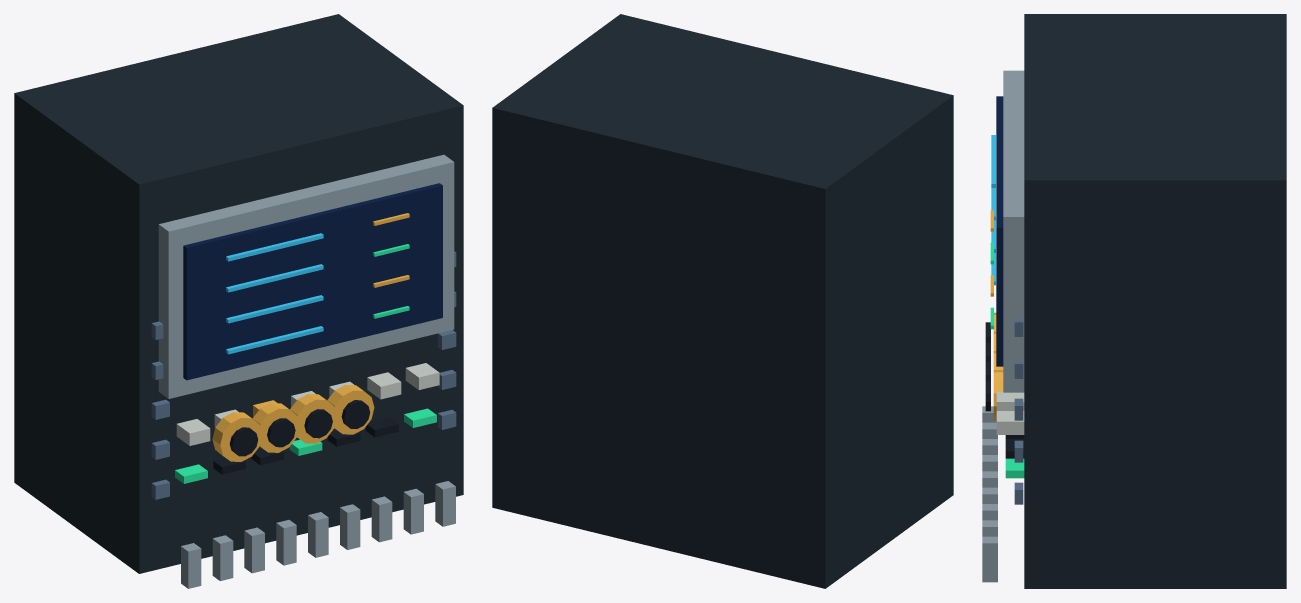
Rendered from 50_L84_PrecisionPointingErrorAnalyzer.fbx.
3 views of the same model, side by side, from view 1: azimuth 30°, elevation 25°; view 2: azimuth 150°, elevation 25°; view 3: azimuth 270°, elevation 25° (orthographic). The views are drawn at different scales.
Parts seen in each view (by area): view 1: L84_PrecisionPointingErrorAnalyzer, L84_PrecisionPointingErrorAnalyzer_Part_0010, L84_PrecisionPointingErrorAnalyzer_Part_0014, L84_PrecisionPointingErrorAnalyzer_Part_0016, L84_PrecisionPointingErrorAnalyzer_Part_0012, L84_PrecisionPointingErrorAnalyzer_Part_0011, L84_PrecisionPointingErrorAnalyzer_Part_0013, L84_PrecisionPointingErrorAnalyzer_Part_0015, L84_PrecisionPointingErrorAnalyzer_Part_0017; view 2: L84_PrecisionPointingErrorAnalyzer; view 3: L84_PrecisionPointingErrorAnalyzer.
Part boxes in pixels (x1,y1,x2,y2): L84_PrecisionPointingErrorAnalyzer: (14, 14, 463, 588); L84_PrecisionPointingErrorAnalyzer_Part_0010: (212, 412, 262, 461); L84_PrecisionPointingErrorAnalyzer_Part_0014: (290, 394, 336, 443); L84_PrecisionPointingErrorAnalyzer_Part_0016: (327, 384, 374, 434); L84_PrecisionPointingErrorAnalyzer_Part_0012: (252, 403, 299, 452); L84_PrecisionPointingErrorAnalyzer_Part_0011: (229, 427, 258, 456); L84_PrecisionPointingErrorAnalyzer_Part_0013: (267, 418, 295, 447); L84_PrecisionPointingErrorAnalyzer_Part_0015: (304, 409, 332, 438); L84_PrecisionPointingErrorAnalyzer_Part_0017: (341, 400, 370, 428); L84_PrecisionPointingErrorAnalyzer: (492, 14, 953, 588); L84_PrecisionPointingErrorAnalyzer: (982, 14, 1286, 588).
Bounding box in the file's own units: 99.96 × 117 × 77.32.
